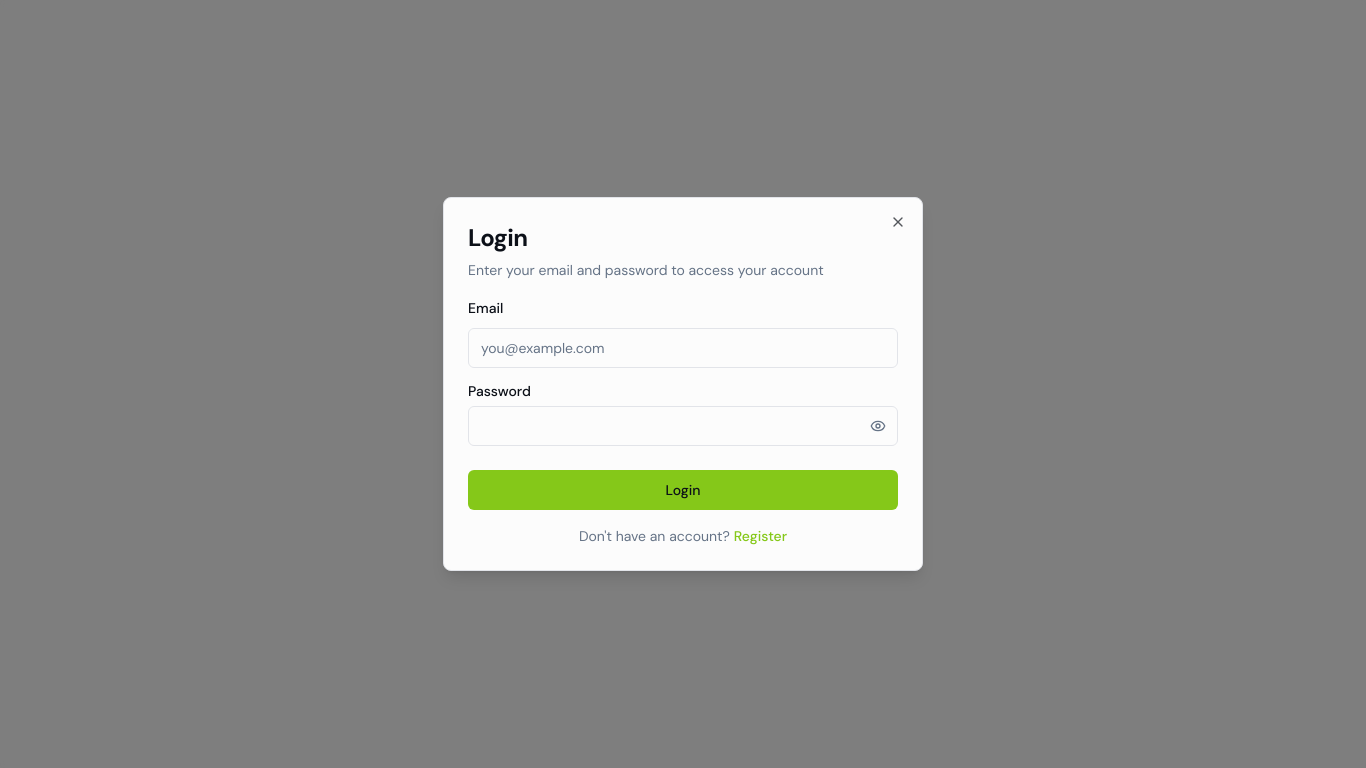
Scenario: an unverified email › still takes its own path rather than the generic message
In the field labelled "Email": [683, 348] box [468,328,898,368], type "user@test.com"
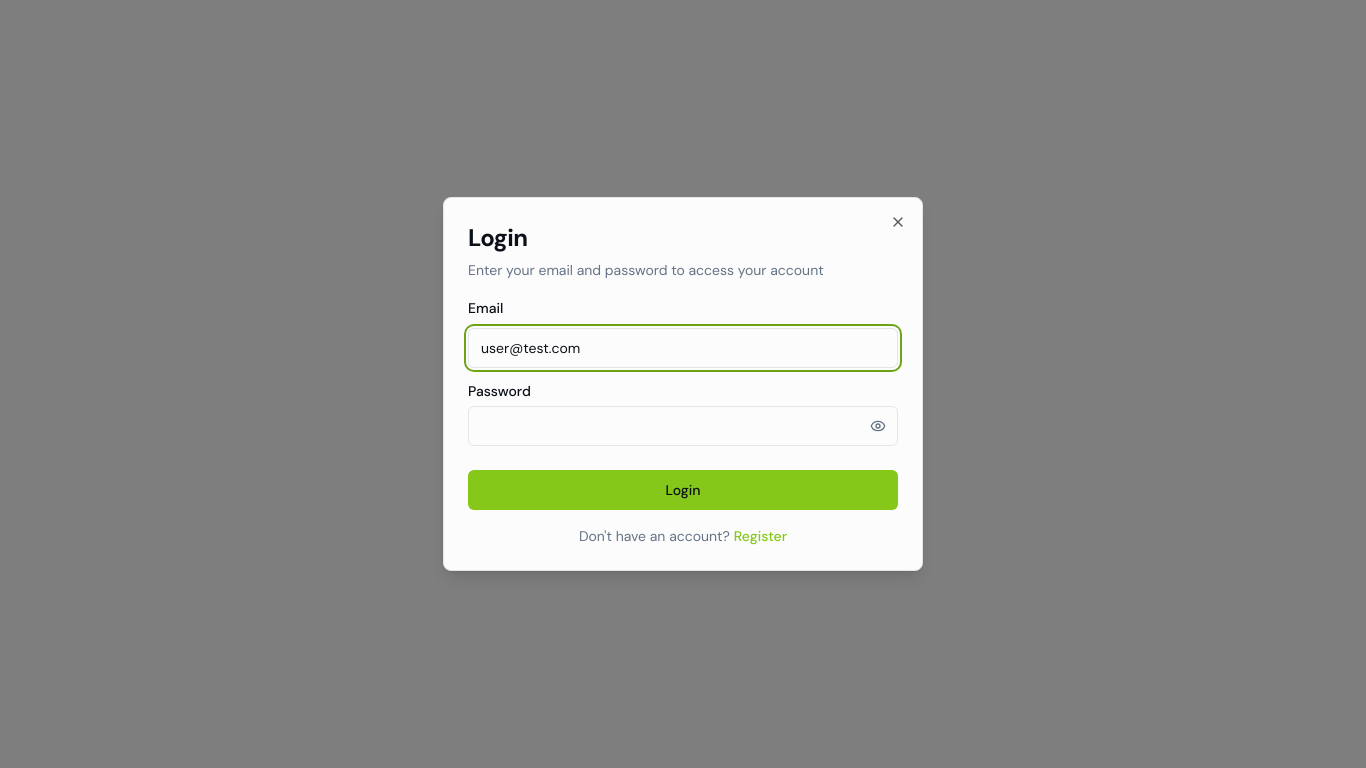
In the password field labelled "Password": [683, 426] box [468,406,898,446], type "validpass1"
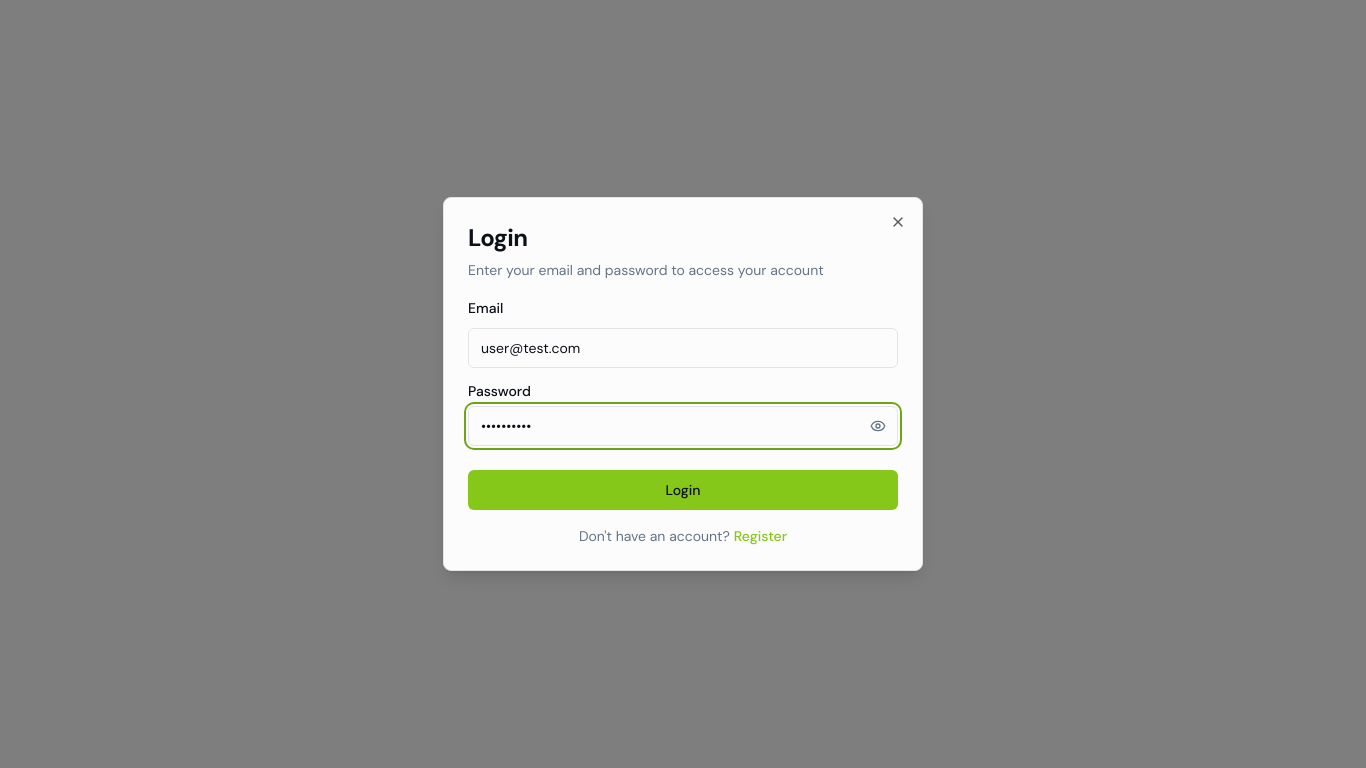
Click the button "Login": [683, 490] box [468,470,898,510]
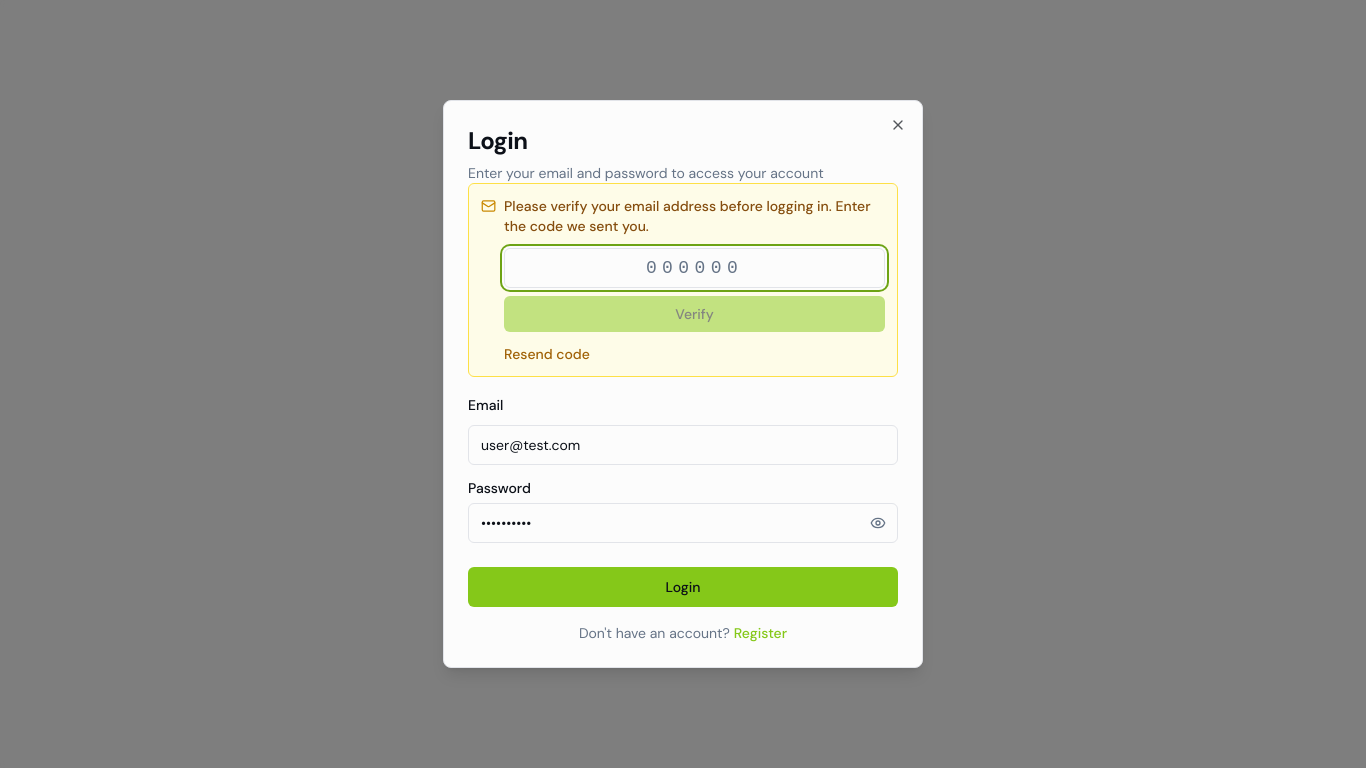
expect the text "Please verify your email address before logging in. Enter the code we sent you." is shown: met, box [504,196,885,236]
